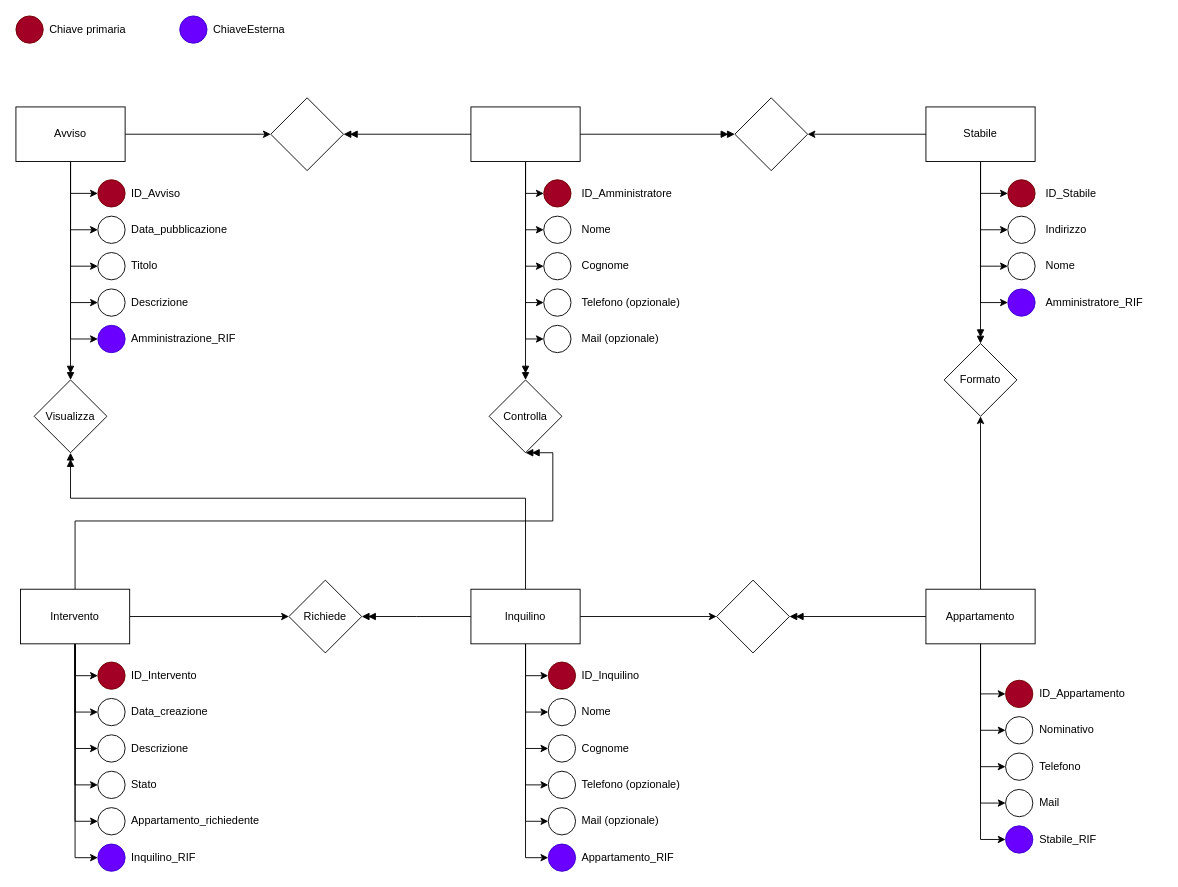
Some shapes in this 1178 by 887 pixel diagram are drawn without their labels. Here are the shapes that lost their labels. From the top down, the centre of each, then its label:
At point 307,134: "Crea".
At point 525,134: "Amministratore".
At point 771,134: "Gestisce".
At point 752,616: "Abita".
